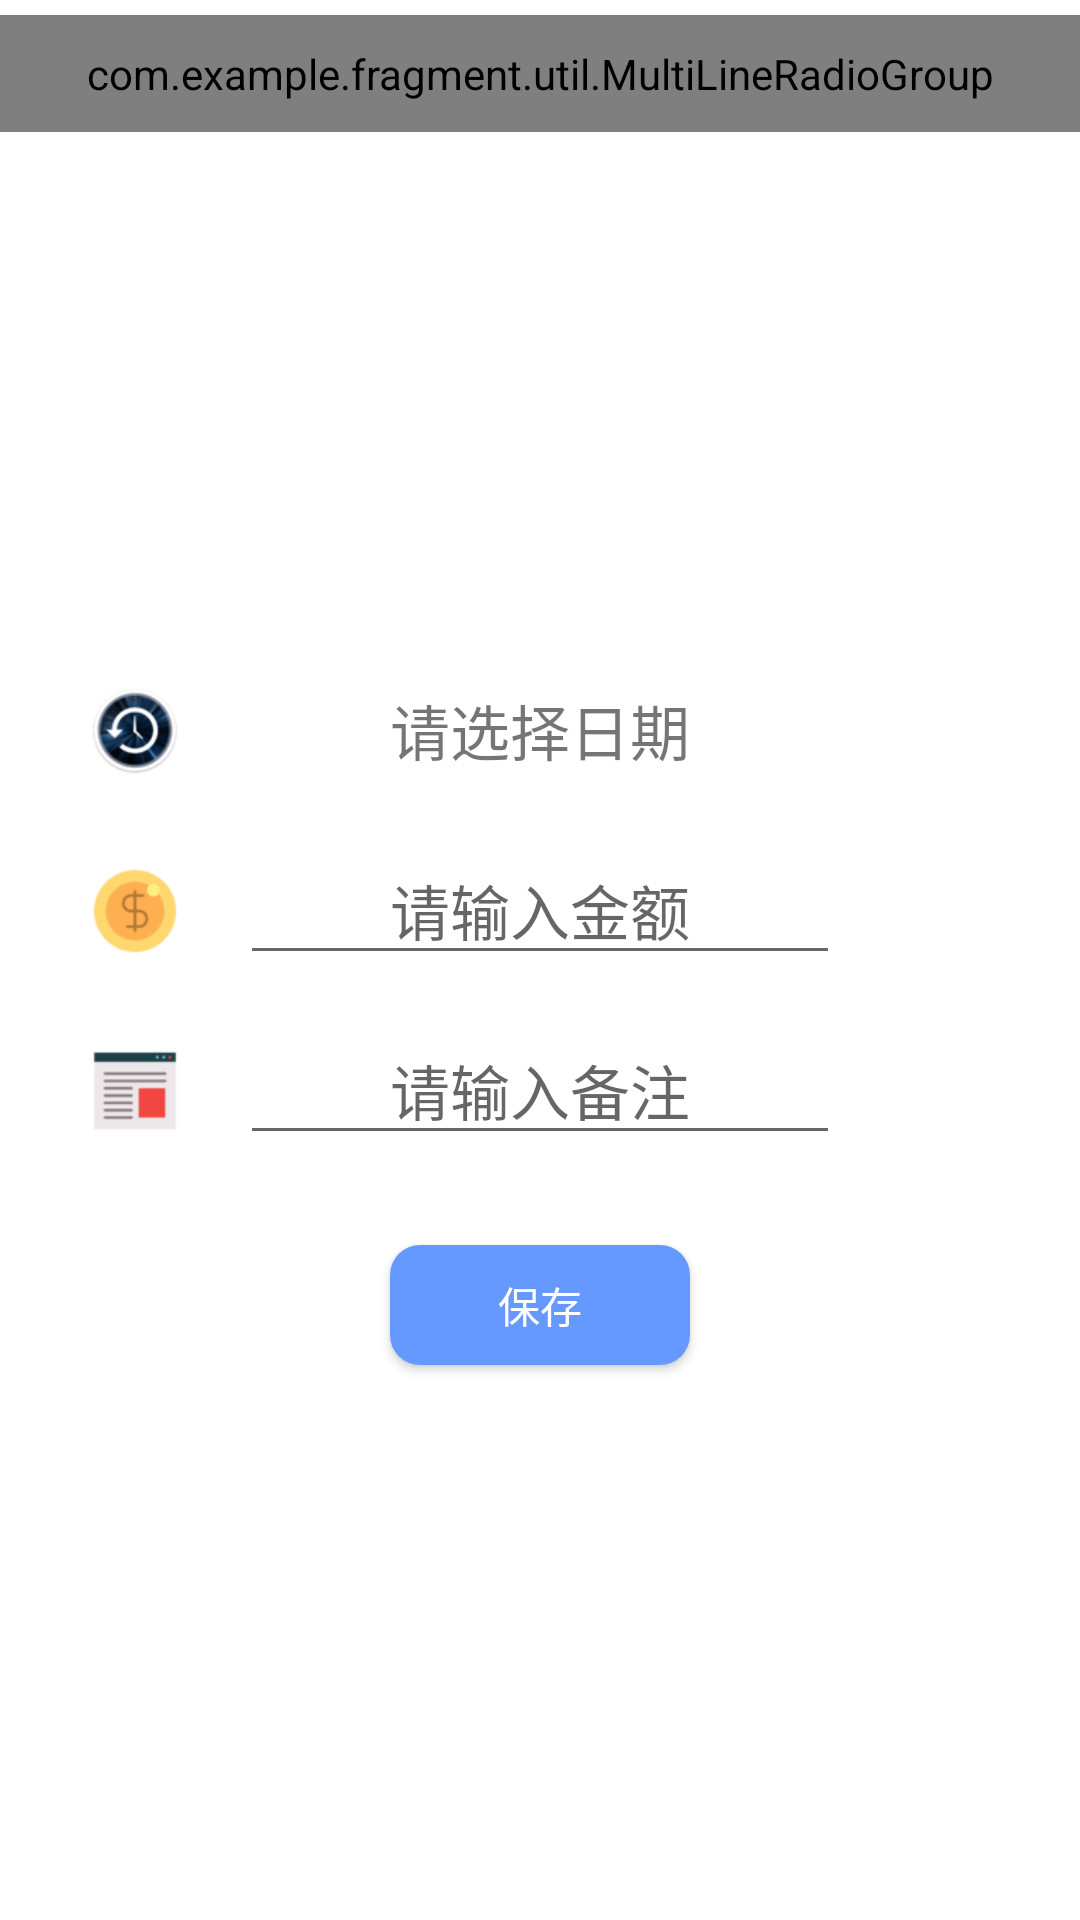

Screen size 1080px x 1920px. Icon name, then its center in pixels as (x,y):
coins: (135,911)
